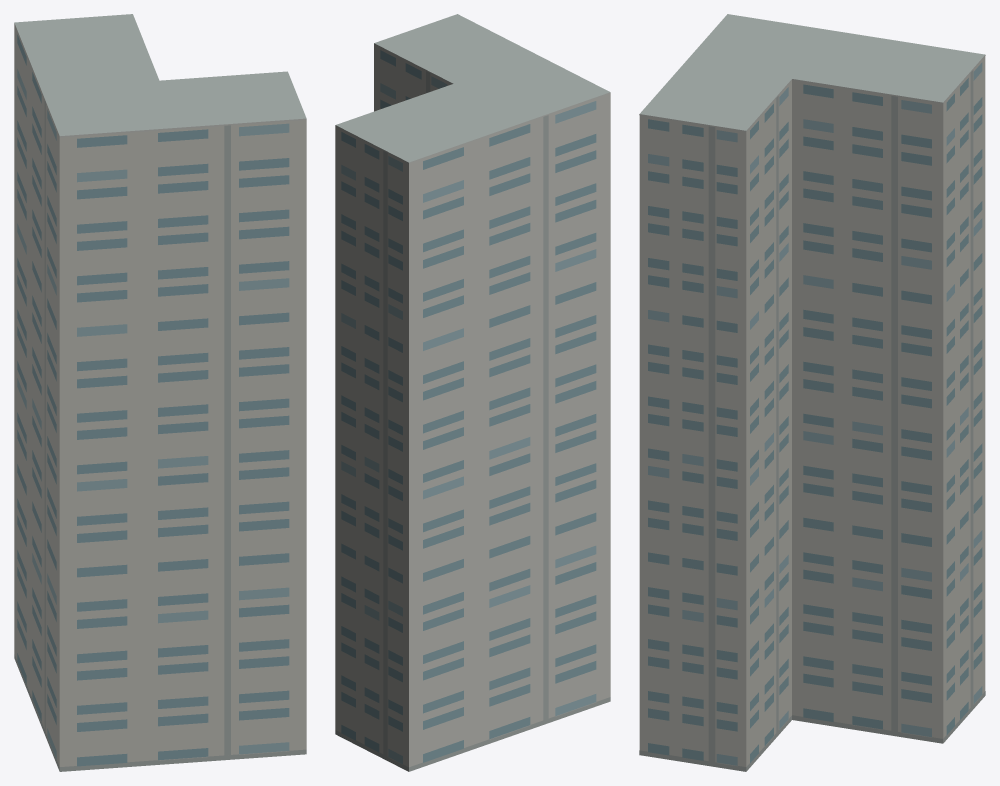
Rendered from residential-26187be6-1a22-4e7e-9619-bbe745f4ce46.glb.
3 renders of one model, left to right at view 1: azimuth 30°, elevation 25°; view 2: azimuth 150°, elevation 25°; view 3: azimuth 270°, elevation 25°, orthographic. The views are drawn at different scales.
Parts seen in each view (by area): view 1: residential-26187be6-1a22-4e7e-9619-bbe745f4ce46.tmp; view 2: residential-26187be6-1a22-4e7e-9619-bbe745f4ce46.tmp; view 3: residential-26187be6-1a22-4e7e-9619-bbe745f4ce46.tmp.
Boxes of the visible parts, x1,y1,x2,y2 form: residential-26187be6-1a22-4e7e-9619-bbe745f4ce46.tmp: (14, 14, 306, 771); residential-26187be6-1a22-4e7e-9619-bbe745f4ce46.tmp: (335, 14, 610, 771); residential-26187be6-1a22-4e7e-9619-bbe745f4ce46.tmp: (639, 14, 985, 771).
Size of the model in its own units: 46.69 by 119 by 58.43.
